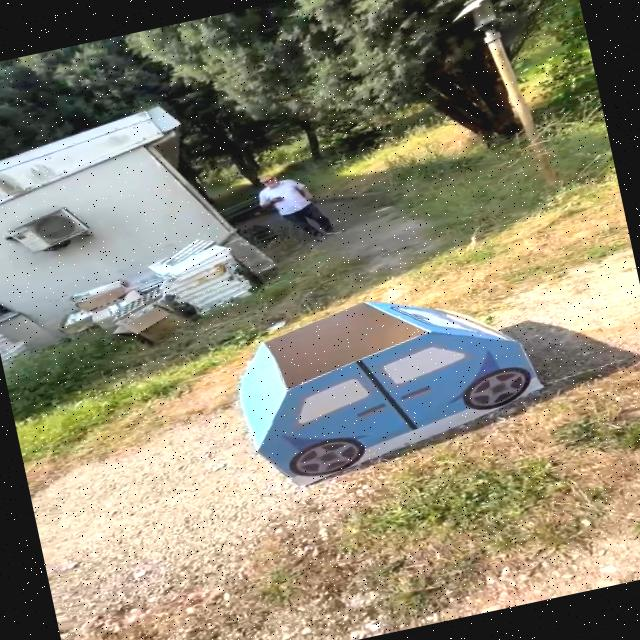blue_car: (208, 253, 566, 509)
